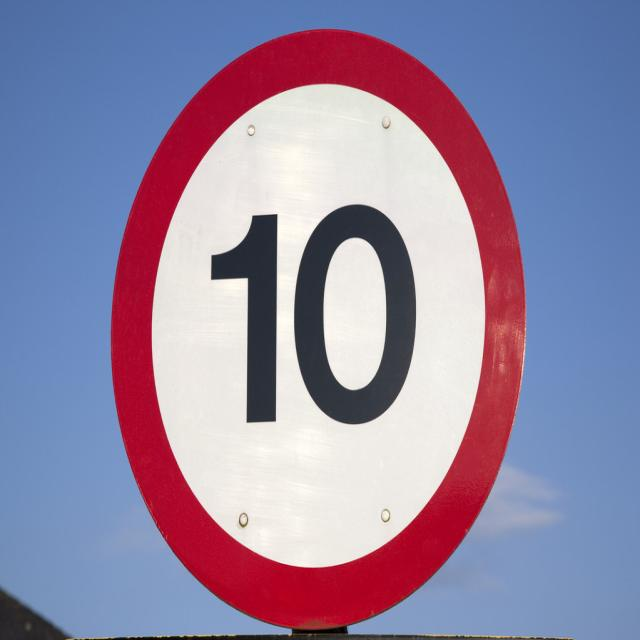speed limit 10: (106, 27, 528, 632)
